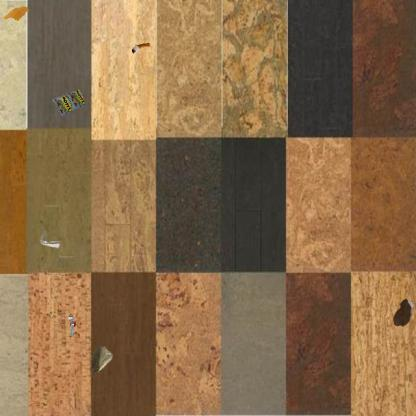dirty: (52, 88, 87, 118), (90, 345, 114, 375), (38, 230, 60, 250), (66, 312, 79, 338), (130, 41, 152, 55)
liquid: (392, 298, 415, 328), (3, 5, 29, 22)
